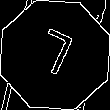L_SW: (30, 25, 80, 85)
